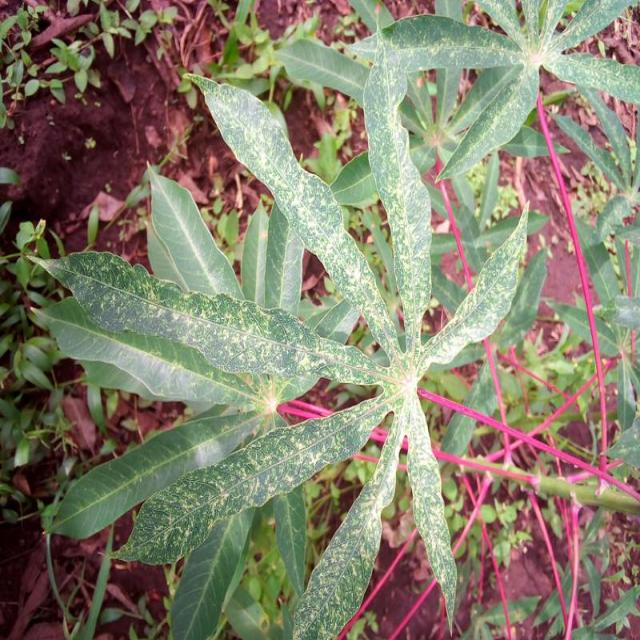cassava leaf: (29, 21, 535, 639)
